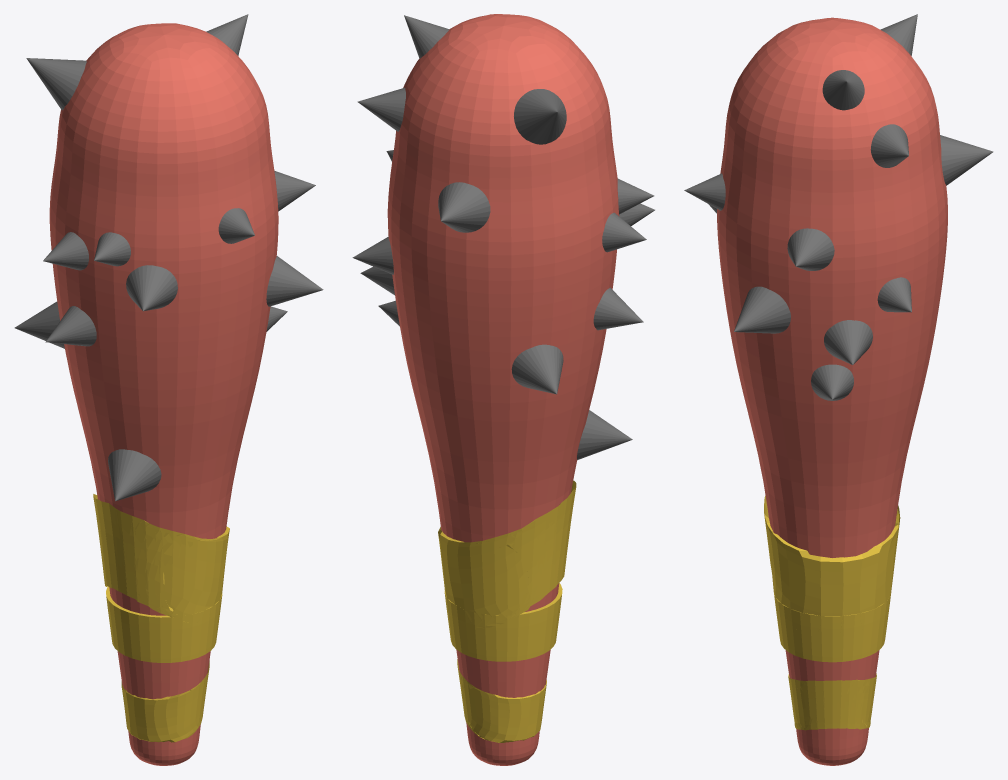
The model's file is Sword1v2.fbx.
The picture shows the model from 3 angles, left to right: view 1: azimuth 30°, elevation 25°; view 2: azimuth 150°, elevation 25°; view 3: azimuth 270°, elevation 25°; orthographic projection.
Parts seen in each view (by area): view 1: Cylinder.130, Cylinder.135, Cylinder.131, Cylinder.136, Cylinder.130|Cone|Dupli|1, Cylinder.130|Cone|Dupli|8, Cylinder.130|Cone|Dupli|13, Cylinder.130|Cone|Dupli|4, Cylinder.130|Cone|Dupli|5, Cylinder.130|Cone|Dupli|7, Cylinder.130|Cone|Dupli|6, Cylinder.130|Cone|Dupli| (+3 smaller); view 2: Cylinder.130, Cylinder.135, Cylinder.131, Cylinder.136, Cylinder.130|Cone|Dupli|13, Cylinder.130|Cone|Dupli|10, Cylinder.130|Cone|Dupli|, Cylinder.130|Cone|Dupli|1, Cylinder.130|Cone|Dupli|5, Cylinder.130|Cone|Dupli|12, Cylinder.130|Cone|Dupli|7, Cylinder.130|Cone|Dupli|14 (+2 smaller); view 3: Cylinder.130, Cylinder.135, Cylinder.131, Cylinder.136, Cylinder.130|Cone|Dupli|4, Cylinder.130|Cone|Dupli|2, Cylinder.130|Cone|Dupli|9, Cylinder.130|Cone|Dupli|10, Cylinder.130|Cone|Dupli|14, Cylinder.130|Cone|Dupli|12, Cone, Cylinder.130|Cone|Dupli|3 (+2 smaller).
Boxes of the visible parts, x1=… form: Cylinder.130: x1=49, y1=23, x2=278, y2=765; Cylinder.135: x1=93, y1=494, x2=229, y2=622; Cylinder.131: x1=106, y1=586, x2=222, y2=662; Cylinder.136: x1=121, y1=661, x2=209, y2=742; Cylinder.130|Cone|Dupli|1: x1=108, y1=449, x2=161, y2=501; Cylinder.130|Cone|Dupli|8: x1=126, y1=265, x2=177, y2=311; Cylinder.130|Cone|Dupli|13: x1=26, y1=58, x2=86, y2=110; Cylinder.130|Cone|Dupli|4: x1=266, y1=256, x2=323, y2=306; Cylinder.130|Cone|Dupli|5: x1=45, y1=306, x2=96, y2=346; Cylinder.130|Cone|Dupli|7: x1=43, y1=232, x2=88, y2=270; Cylinder.130|Cone|Dupli|6: x1=94, y1=232, x2=130, y2=266; Cylinder.130|Cone|Dupli|: x1=14, y1=301, x2=64, y2=348; Cylinder.130: x1=387, y1=14, x2=619, y2=765; Cylinder.135: x1=438, y1=480, x2=576, y2=628; Cylinder.131: x1=444, y1=583, x2=562, y2=661; Cylinder.136: x1=457, y1=659, x2=546, y2=742; Cylinder.130|Cone|Dupli|13: x1=514, y1=89, x2=566, y2=144; Cylinder.130|Cone|Dupli|10: x1=438, y1=182, x2=490, y2=232; Cylinder.130|Cone|Dupli|: x1=511, y1=344, x2=563, y2=394; Cylinder.130|Cone|Dupli|1: x1=577, y1=410, x2=632, y2=459; Cylinder.130|Cone|Dupli|5: x1=593, y1=287, x2=643, y2=330; Cylinder.130|Cone|Dupli|12: x1=357, y1=87, x2=405, y2=131; Cylinder.130|Cone|Dupli|7: x1=602, y1=212, x2=646, y2=252; Cylinder.130|Cone|Dupli|14: x1=404, y1=15, x2=449, y2=58; Cylinder.130: x1=717, y1=17, x2=947, y2=765; Cylinder.135: x1=764, y1=495, x2=900, y2=632; Cylinder.131: x1=774, y1=592, x2=891, y2=662; Cylinder.136: x1=788, y1=673, x2=876, y2=730; Cylinder.130|Cone|Dupli|4: x1=734, y1=286, x2=790, y2=333; Cylinder.130|Cone|Dupli|2: x1=824, y1=320, x2=872, y2=364; Cylinder.130|Cone|Dupli|9: x1=787, y1=228, x2=834, y2=270; Cylinder.130|Cone|Dupli|10: x1=940, y1=135, x2=993, y2=185; Cylinder.130|Cone|Dupli|14: x1=822, y1=70, x2=864, y2=110; Cylinder.130|Cone|Dupli|12: x1=870, y1=124, x2=908, y2=167; Cone: x1=811, y1=364, x2=853, y2=400; Cylinder.130|Cone|Dupli|3: x1=877, y1=277, x2=911, y2=312.
Size of the model in its own units: 0.6548 by 1.71 by 0.6574.
